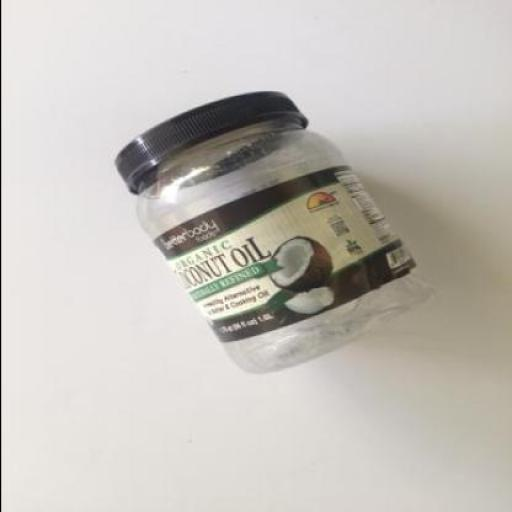plastic: (116, 90, 436, 374), (113, 90, 308, 193)
